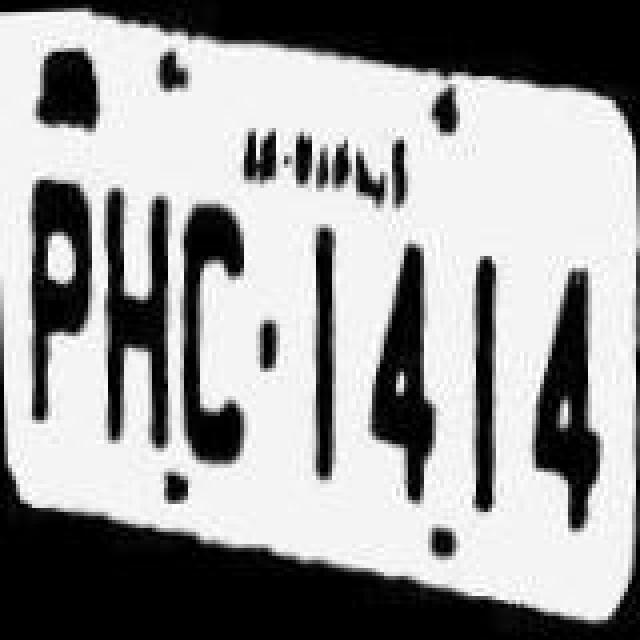1: (298, 224, 354, 492), (460, 244, 512, 516)
4: (520, 252, 604, 540), (360, 238, 444, 522)
C: (174, 196, 258, 472)
H: (92, 182, 180, 462)
P: (8, 164, 96, 448)
